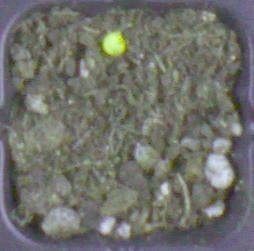pepper seed: (38, 3, 163, 58)
